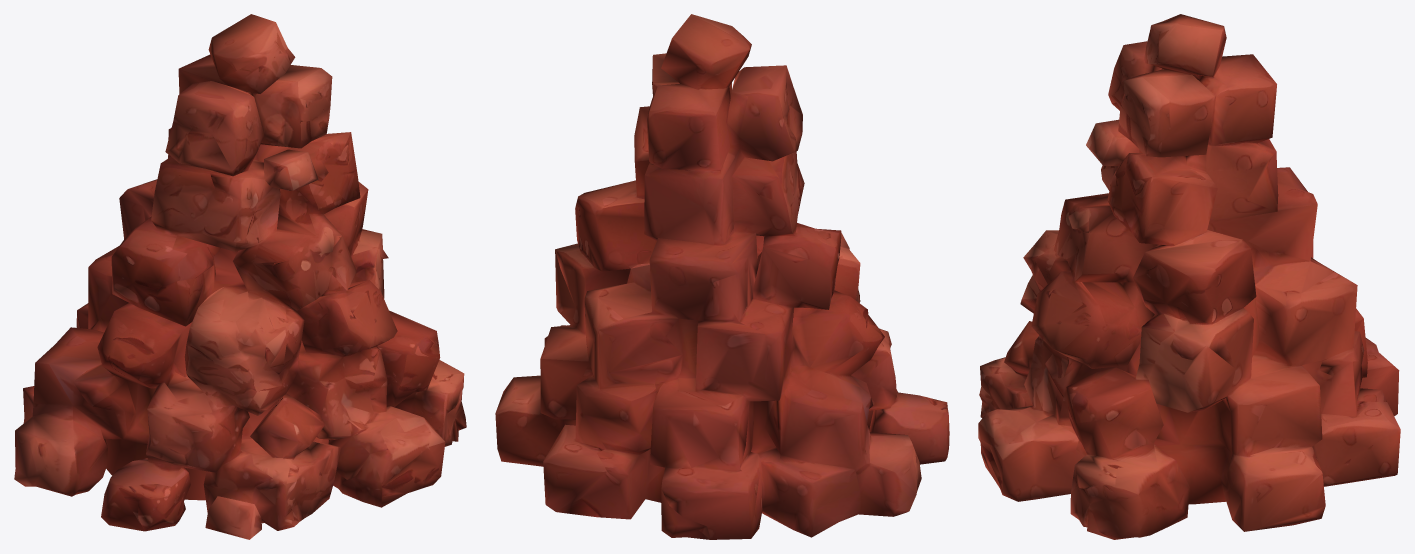
File: gnd_desert_boulder_pile.fbx
3 views of the same model, side by side, from view 1: azimuth 30°, elevation 25°; view 2: azimuth 150°, elevation 25°; view 3: azimuth 270°, elevation 25° (orthographic). The views are drawn at different scales.
Visible parts, largest first — view 1: gnd_desert_boulder_pile_LOD0; view 2: gnd_desert_boulder_pile_LOD0; view 3: gnd_desert_boulder_pile_LOD0.
Boxes of the visible parts, box(x1,y1,x2,y2) form: gnd_desert_boulder_pile_LOD0: box(14, 14, 466, 539); gnd_desert_boulder_pile_LOD0: box(495, 14, 949, 539); gnd_desert_boulder_pile_LOD0: box(978, 14, 1400, 539).
Size of what is drawn, in the model's own units: 0.9829 by 0.9846 by 0.8596.
